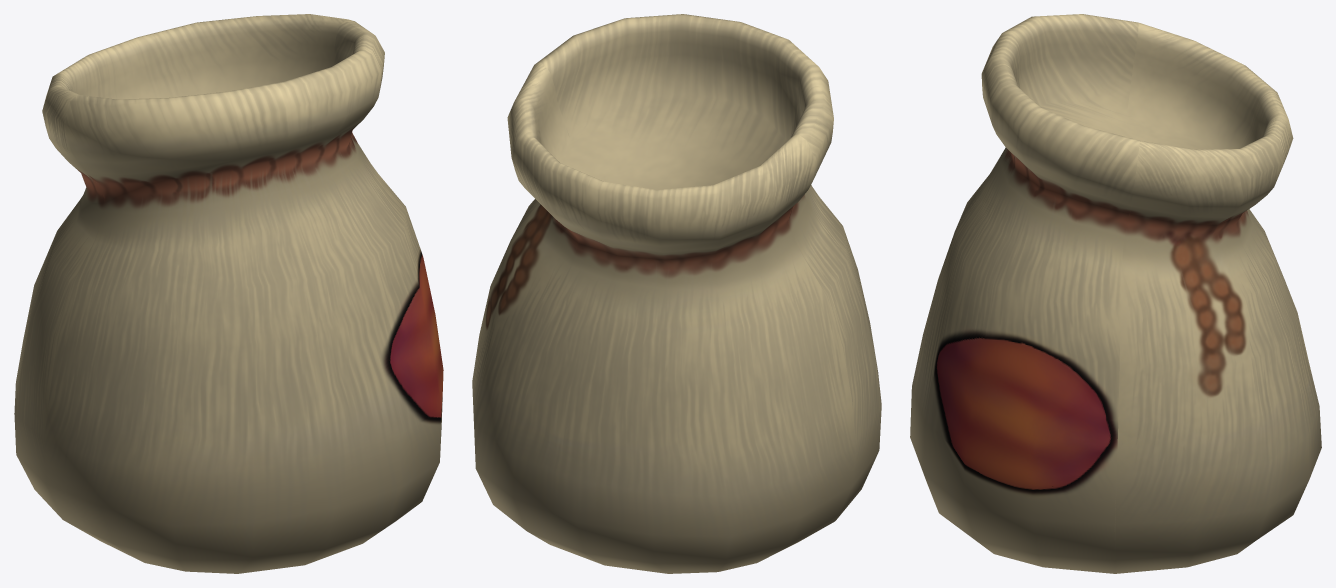
Rendered from Model_TexturaSacoAberto2Cacau_v1.fbx.
3 renders of one model, left to right at view 1: azimuth 30°, elevation 25°; view 2: azimuth 150°, elevation 25°; view 3: azimuth 270°, elevation 25°, orthographic. The views are drawn at different scales.
Parts seen in each view (by area): view 1: saco torto.003; view 2: saco torto.003; view 3: saco torto.003.
Boxes of the visible parts, x1,y1,x2,y2 form: saco torto.003: (14, 14, 443, 573); saco torto.003: (472, 14, 881, 573); saco torto.003: (910, 14, 1321, 573).
Size of the model in its own units: 233 by 292 by 231.
